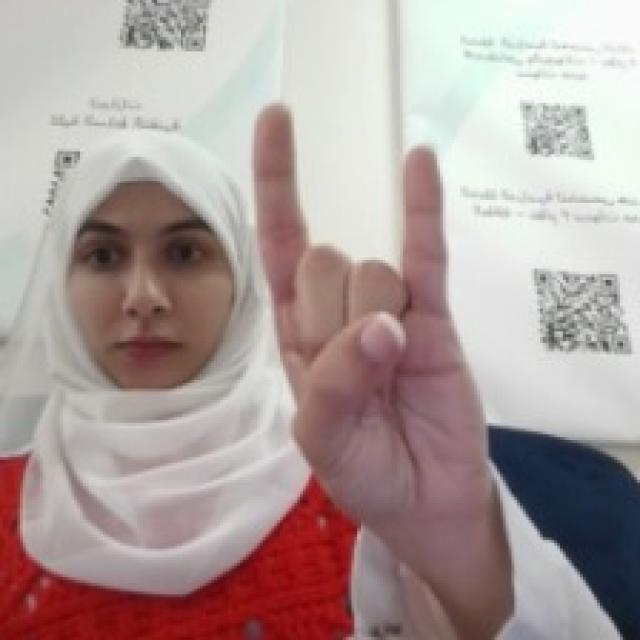No: (245, 91, 486, 520)
